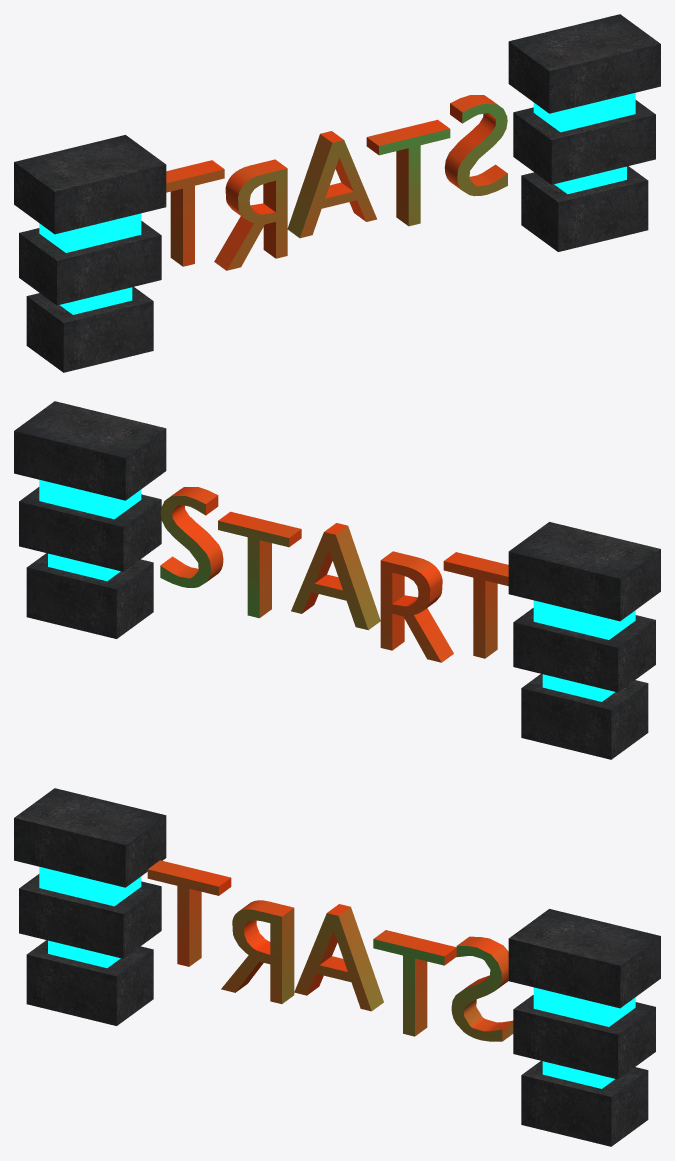
The model's file is ARC0310003.fbx.
The picture shows the model from 3 angles, top to bottom: view 1: azimuth 30°, elevation 25°; view 2: azimuth 150°, elevation 25°; view 3: azimuth 330°, elevation 25°; orthographic projection.
Parts seen in each view (by area): view 1: smARC0310003; view 2: smARC0310003; view 3: smARC0310003.
Boxes of the visible parts, box(x1,y1,x2,y2) form: smARC0310003: box(14, 14, 660, 372); smARC0310003: box(14, 401, 660, 759); smARC0310003: box(14, 788, 660, 1146).
Bounding box in the file's own units: 260 × 75.79 × 30.27.
1 material, 1 textured.
